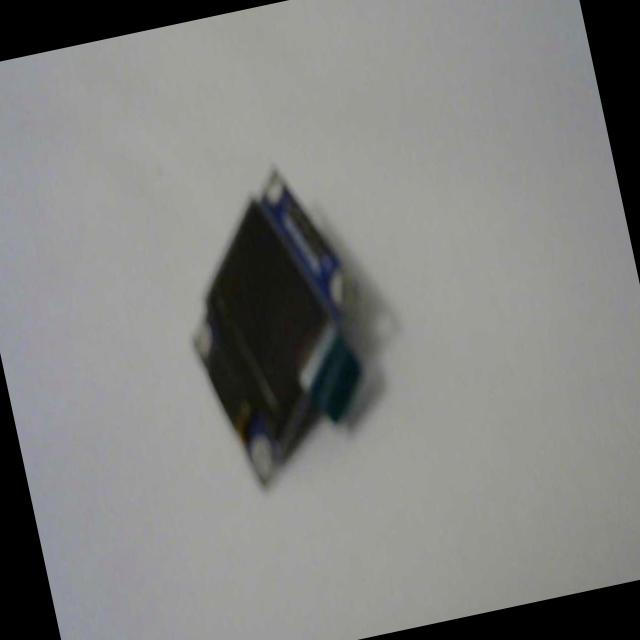oled: (158, 148, 408, 509)
